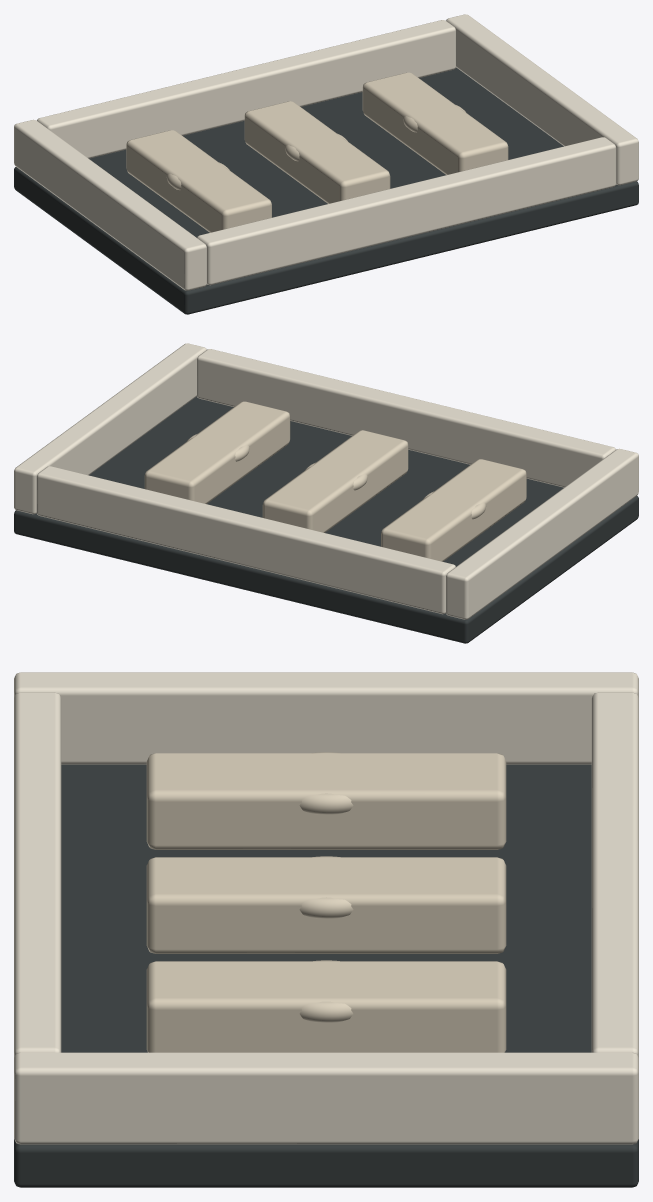
The model's file is museum-conservation-and-art-restoration-museum-conserv-ca60700c__31893.glb.
3 views of the same model, one above another, from view 1: azimuth 30°, elevation 25°; view 2: azimuth 150°, elevation 25°; view 3: azimuth 270°, elevation 25° (orthographic). The views are drawn at different scales.
Visible parts, largest first — view 1: museum-conservation-and-art-restoration-carved-frame-fragmen (×3); view 2: museum-conservation-and-art-restoration-carved-frame-fragmen (×3); view 3: museum-conservation-and-art-restoration-carved-frame-fragmen (×3).
Boxes of the visible parts, box(x1,y1,x2,y2) form: museum-conservation-and-art-restoration-carved-frame-fragmen (×3): box(14, 14, 638, 314); museum-conservation-and-art-restoration-carved-frame-fragmen (×3): box(14, 343, 638, 643); museum-conservation-and-art-restoration-carved-frame-fragmen (×3): box(14, 672, 638, 1187).
Bounding box in the file's own units: 0.5 × 0.07 × 0.33.
